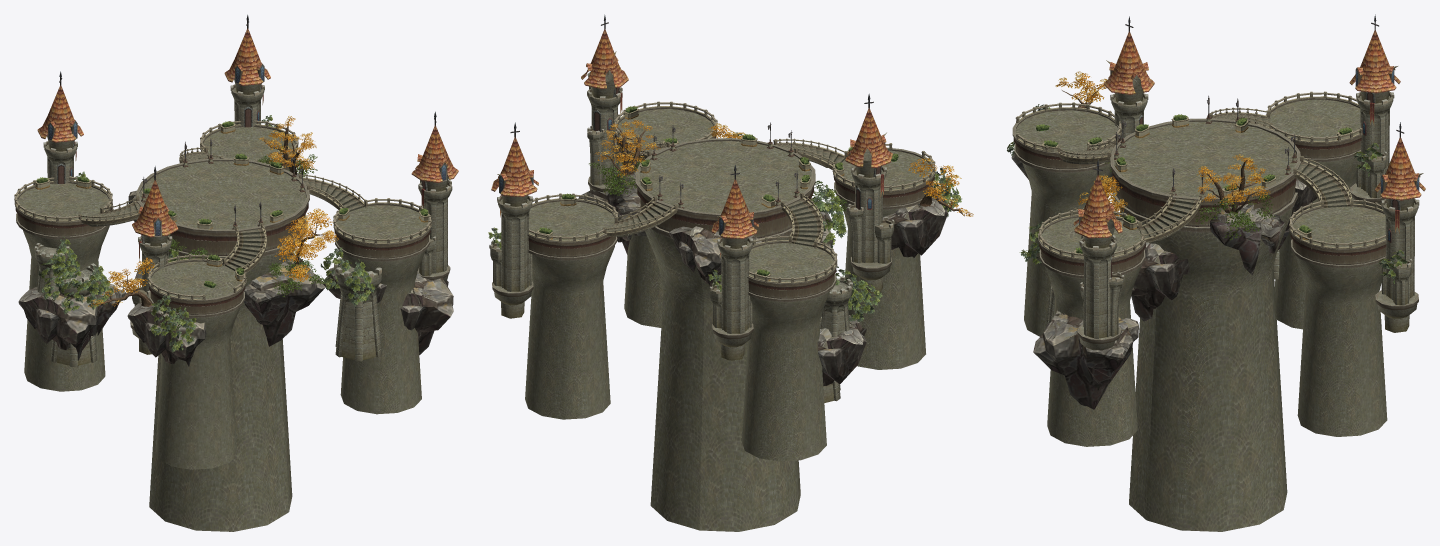
File: B_pingtai.fbx
3 views of the same model, side by side, from view 1: azimuth 30°, elevation 25°; view 2: azimuth 150°, elevation 25°; view 3: azimuth 270°, elevation 25° (orthographic). The views are drawn at different scales.
Parts seen in each view (by area): view 1: B_wj24, B_wj18, B_wj23, B_wj3, B_wj1, B_wj19, B_wj13, B_wj15, B_wj7, B_wj9, B_wj16, B_wj8 (+2 smaller); view 2: B_wj24, B_wj23, B_wj3, B_wj22, B_wj1, B_wj12, B_wj9, B_wj21; view 3: B_wj24, B_wj23, B_wj3, B_wj12, B_wj1, B_wj21, B_wj18.
Boxes of the visible parts, x1=… form: B_wj24: x1=14, y1=14, x2=458, y2=531; B_wj18: x1=274, y1=208, x2=338, y2=281; B_wj23: x1=35, y1=121, x2=429, y2=281; B_wj3: x1=258, y1=116, x2=316, y2=170; B_wj1: x1=88, y1=257, x2=154, y2=307; B_wj19: x1=268, y1=250, x2=325, y2=296; B_wj13: x1=344, y1=259, x2=375, y2=306; B_wj15: x1=165, y1=307, x2=196, y2=352; B_wj7: x1=84, y1=262, x2=113, y2=309; B_wj9: x1=39, y1=254, x2=74, y2=299; B_wj16: x1=149, y1=295, x2=183, y2=336; B_wj8: x1=58, y1=268, x2=94, y2=314; B_wj24: x1=489, y1=14, x2=947, y2=531; B_wj23: x1=537, y1=106, x2=852, y2=280; B_wj3: x1=595, y1=119, x2=660, y2=177; B_wj22: x1=811, y1=184, x2=846, y2=248; B_wj1: x1=908, y1=158, x2=973, y2=216; B_wj12: x1=589, y1=156, x2=641, y2=201; B_wj9: x1=849, y1=274, x2=882, y2=316; B_wj21: x1=651, y1=122, x2=799, y2=208; B_wj24: x1=1011, y1=14, x2=1425, y2=531; B_wj23: x1=1042, y1=114, x2=1353, y2=258; B_wj3: x1=1197, y1=154, x2=1270, y2=204; B_wj12: x1=1195, y1=192, x2=1274, y2=240; B_wj1: x1=1055, y1=71, x2=1107, y2=102; B_wj21: x1=1114, y1=95, x2=1297, y2=197; B_wj18: x1=1077, y1=175, x2=1130, y2=216.
Bounding box in the file's own units: 15293 × 15681 × 13651.
